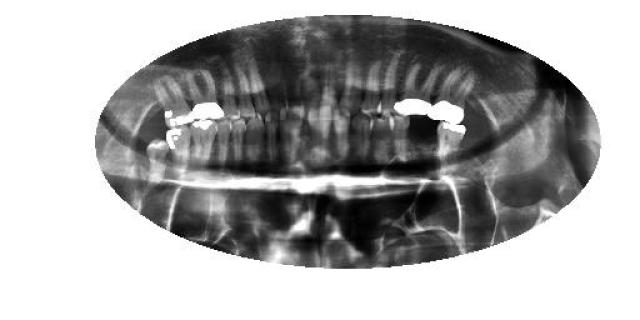Fillings: (428, 66, 478, 124), (395, 59, 441, 116), (155, 74, 194, 128), (188, 66, 222, 119), (189, 120, 216, 165), (436, 122, 466, 162), (168, 127, 192, 175)
